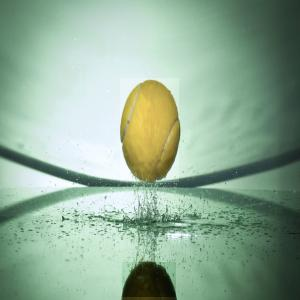TennisBall: (121, 79, 181, 184), (123, 263, 178, 299)
